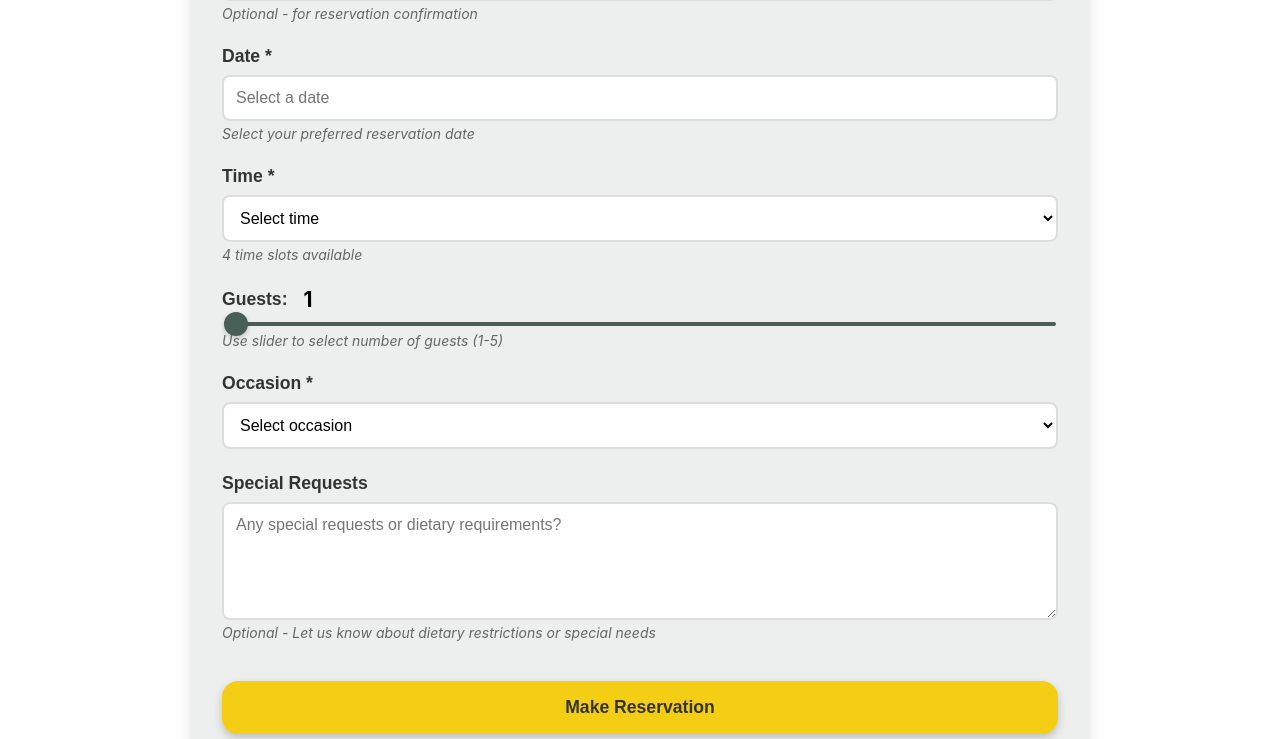
Form shows error for empty required fields
The image size is (1280, 739).
(page scrolled)
Click the button "Make Reservation": (640, 708) [222,681,1058,734]
(page scrolled)
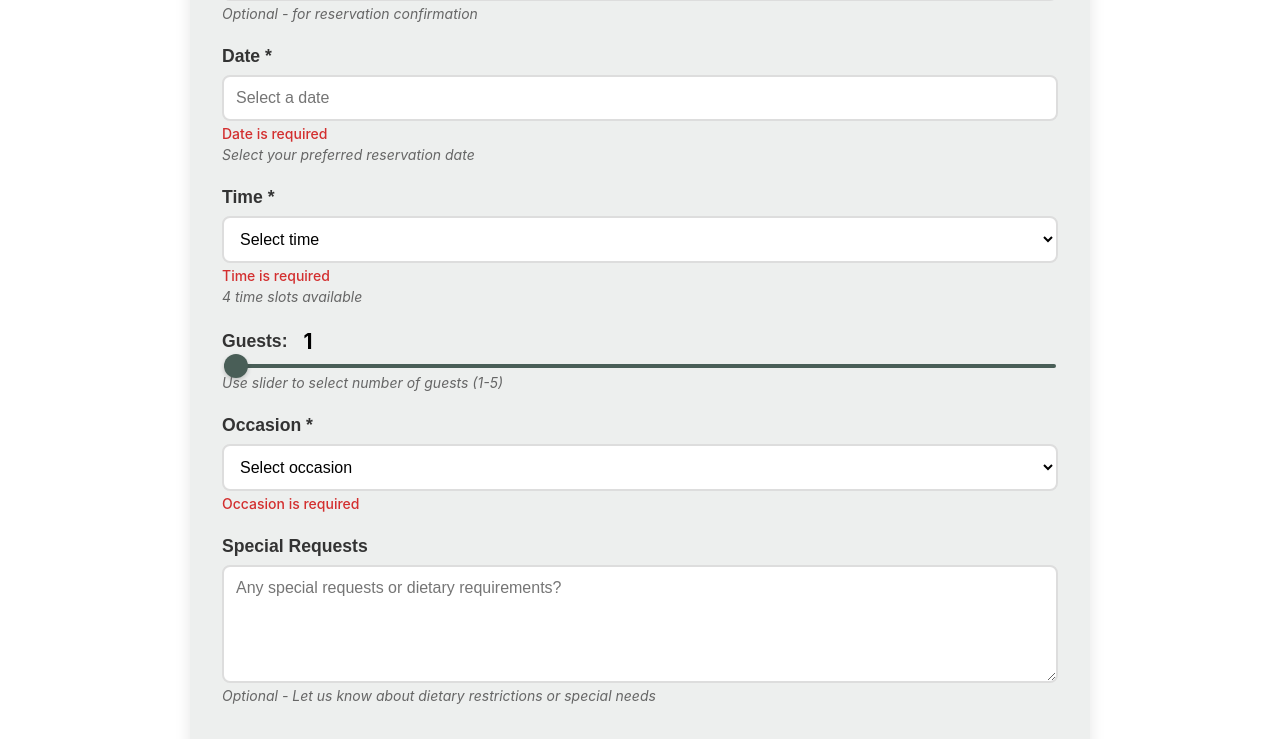
Expected: the text "Date is required" is shown, [222,125,327,142]
Expected: the text "Time is required" is shown, [222,267,330,284]
Expected: the text "Occasion is required" is shown, [222,495,360,512]
